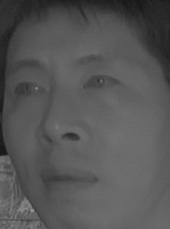eye: (12, 78, 48, 103), (82, 74, 121, 97)
mouth: (36, 163, 100, 201)
